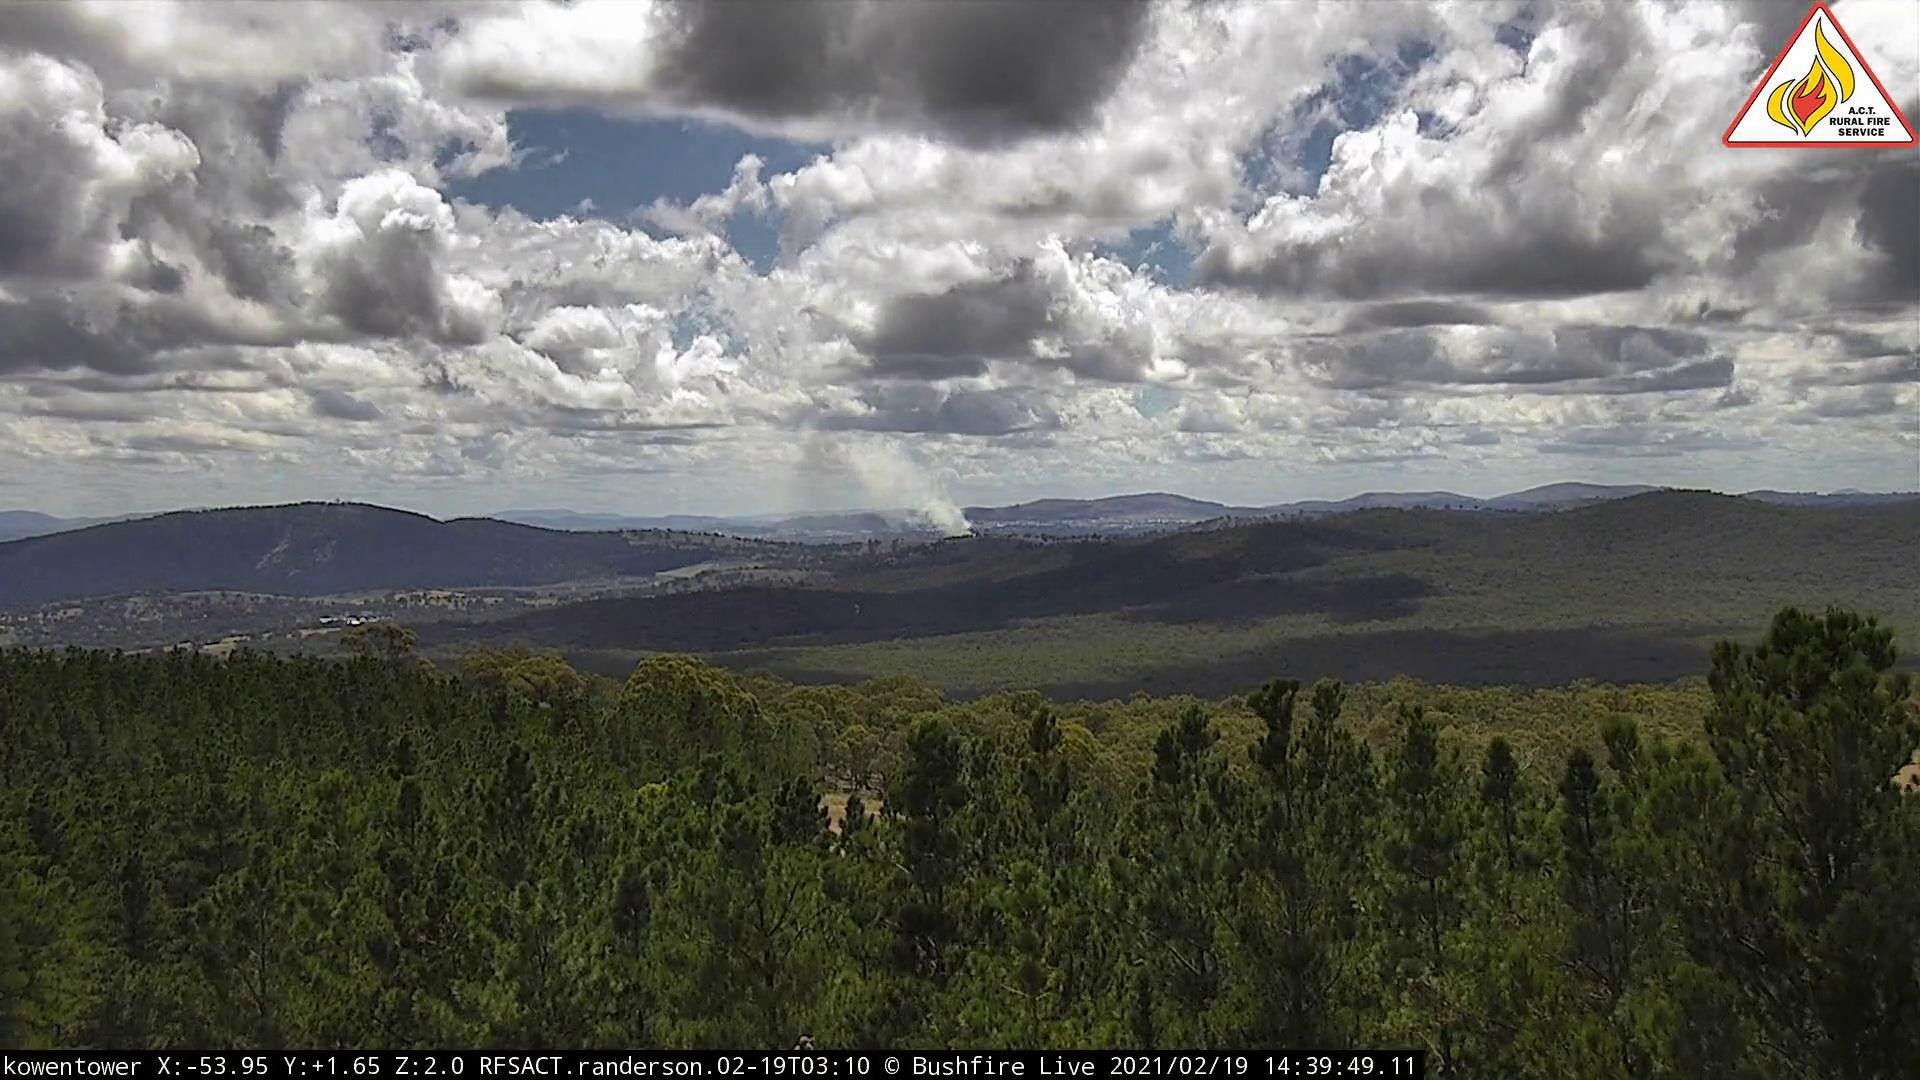instance_salient_object: (758, 434, 980, 549)
